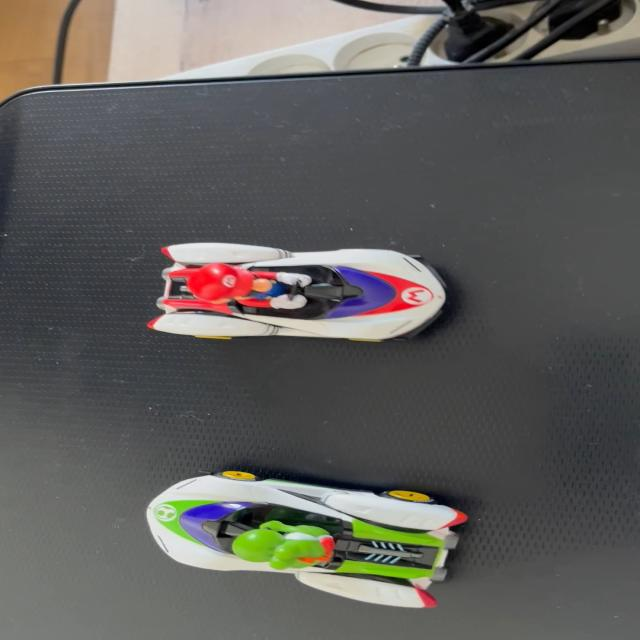mario: (143, 238, 459, 350)
yoshi: (122, 452, 486, 619)
